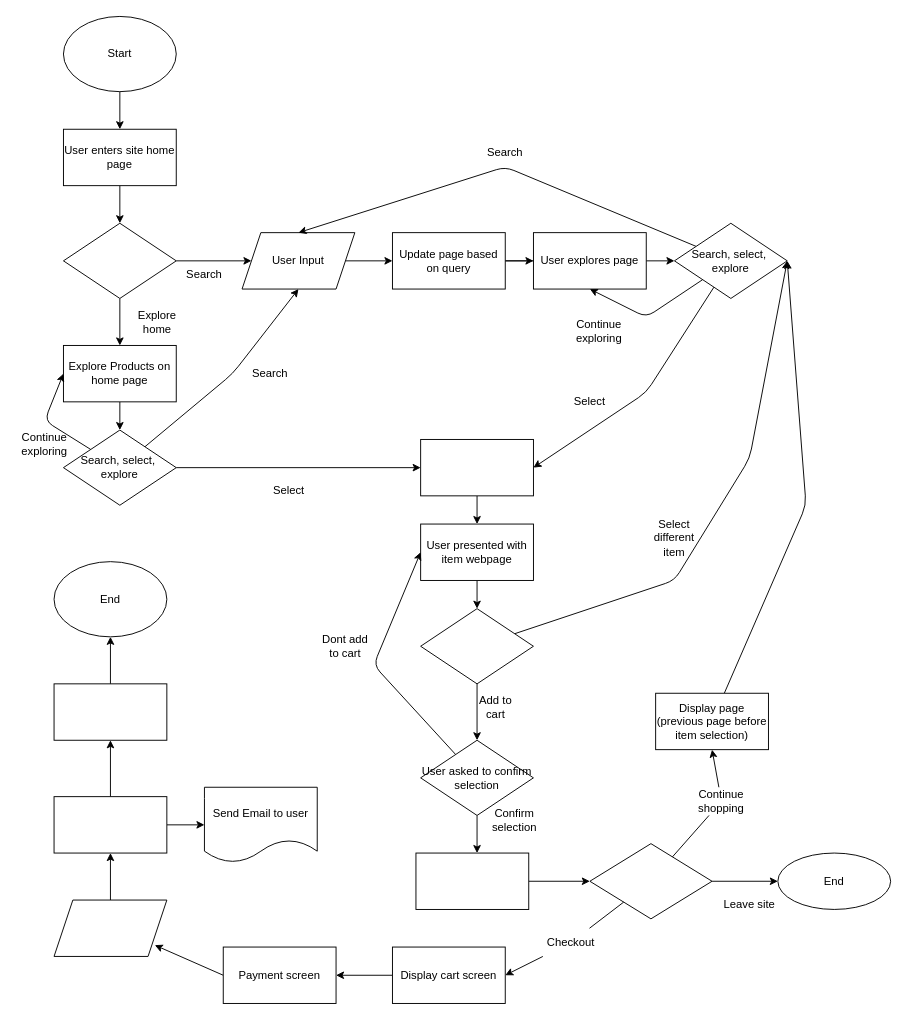
Some shapes in this 907 by 1020 pixel diagram are drawn without their labels. Each missing label, with the centre of its shape:
Add to cart to select different item: point 476,646
Checkout, continue shopping, or leave?: point 650,881
Item added to cart: point 472,880
Payment complete and order confirmation screen: point 110,824
Search or explore: point 119,260
User inputs payment info: point 110,927
User leaves site: point 110,711
User views item: point 476,467
